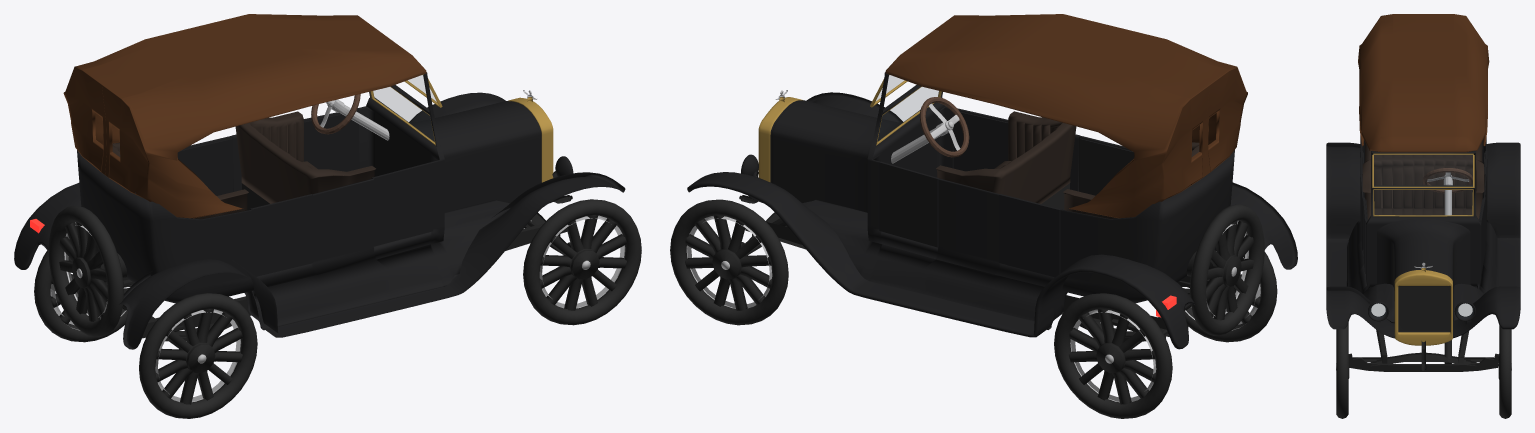
The model's file is modelt.glb.
The picture shows the model from 3 angles, left to right: view 1: azimuth 30°, elevation 25°; view 2: azimuth 150°, elevation 25°; view 3: azimuth 270°, elevation 25°; orthographic projection. The views are drawn at different scales.
Parts seen in each view (by area): view 1: body, wheel_FR, wheel_RR, wheel_RL; view 2: body, wheel_RL, wheel_FL, wheel_RR; view 3: body, wheel_FR, wheel_FL.
Part boxes in pixels (<box>): body: <box>14,14,625,349</box>; wheel_FR: <box>523,199,641,325</box>; wheel_RR: <box>139,293,257,418</box>; wheel_RL: <box>34,250,130,342</box>; body: <box>687,14,1297,349</box>; wheel_RL: <box>1054,293,1172,418</box>; wheel_FL: <box>670,199,788,325</box>; wheel_RR: <box>1180,252,1277,342</box>; body: <box>1326,14,1520,371</box>; wheel_FR: <box>1336,322,1349,418</box>; wheel_FL: <box>1498,325,1511,418</box>.
Size of the model in its own units: 3.41 by 1.98 by 1.43.
